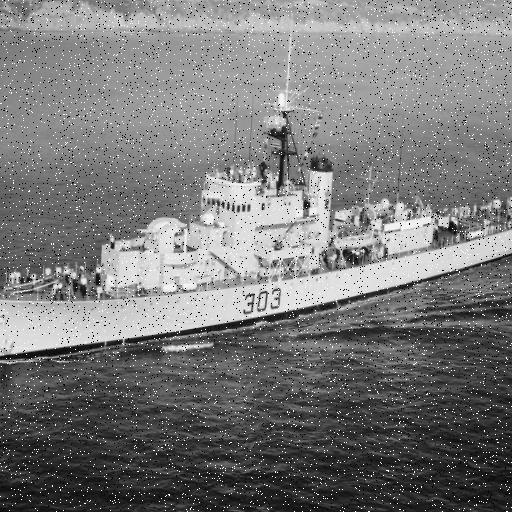Fragata: (1, 45, 512, 375)
